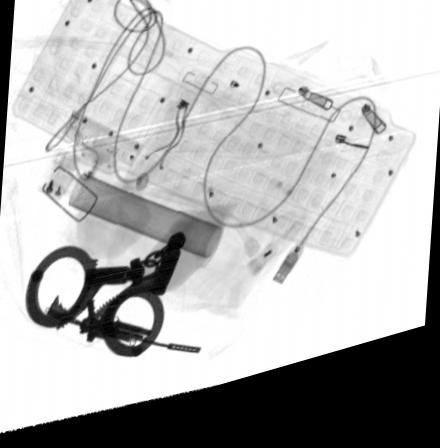Gun: (39, 296, 203, 365)
HandCuffs: (23, 240, 190, 367)
